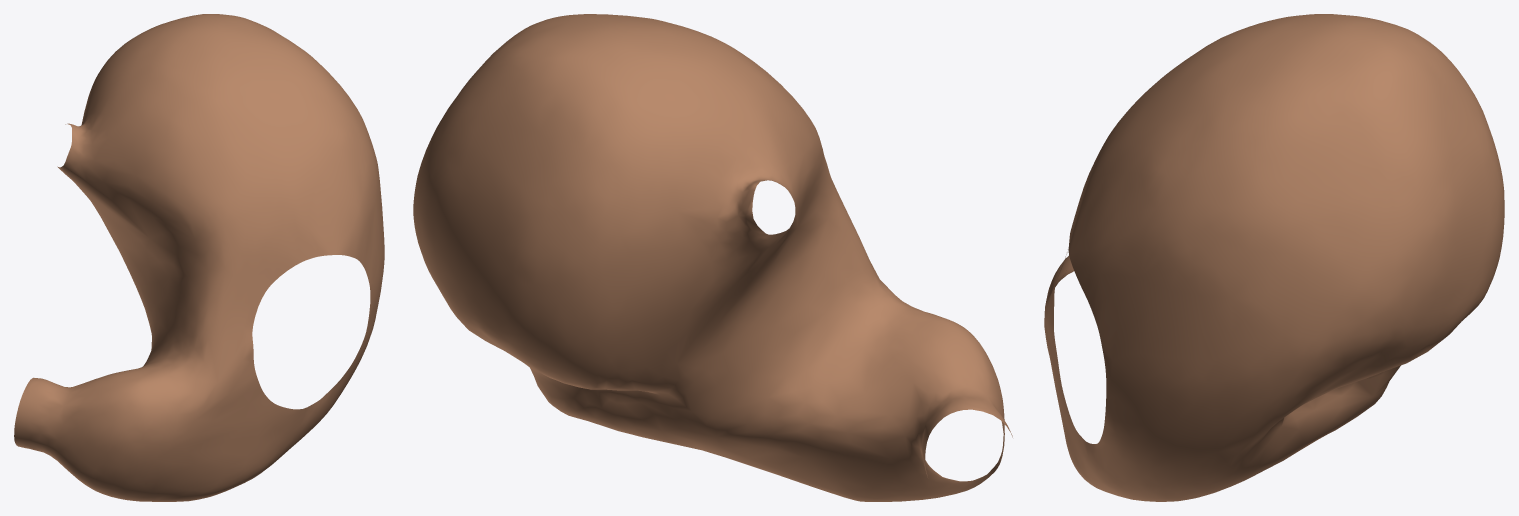
Rendered from stomach.glb.
3 renders of one model, left to right at view 1: azimuth 30°, elevation 25°; view 2: azimuth 150°, elevation 25°; view 3: azimuth 270°, elevation 25°, orthographic. The views are drawn at different scales.
Parts seen in each view (by area): view 1: stomach; view 2: stomach; view 3: stomach.
Part boxes in pixels (box(x1,y1,x2,y2)): stomach: box(14, 14, 384, 501); stomach: box(413, 14, 1012, 501); stomach: box(1044, 14, 1504, 501).
Bounding box in the file's own units: 0.1342 × 0.1255 × 0.1053.
